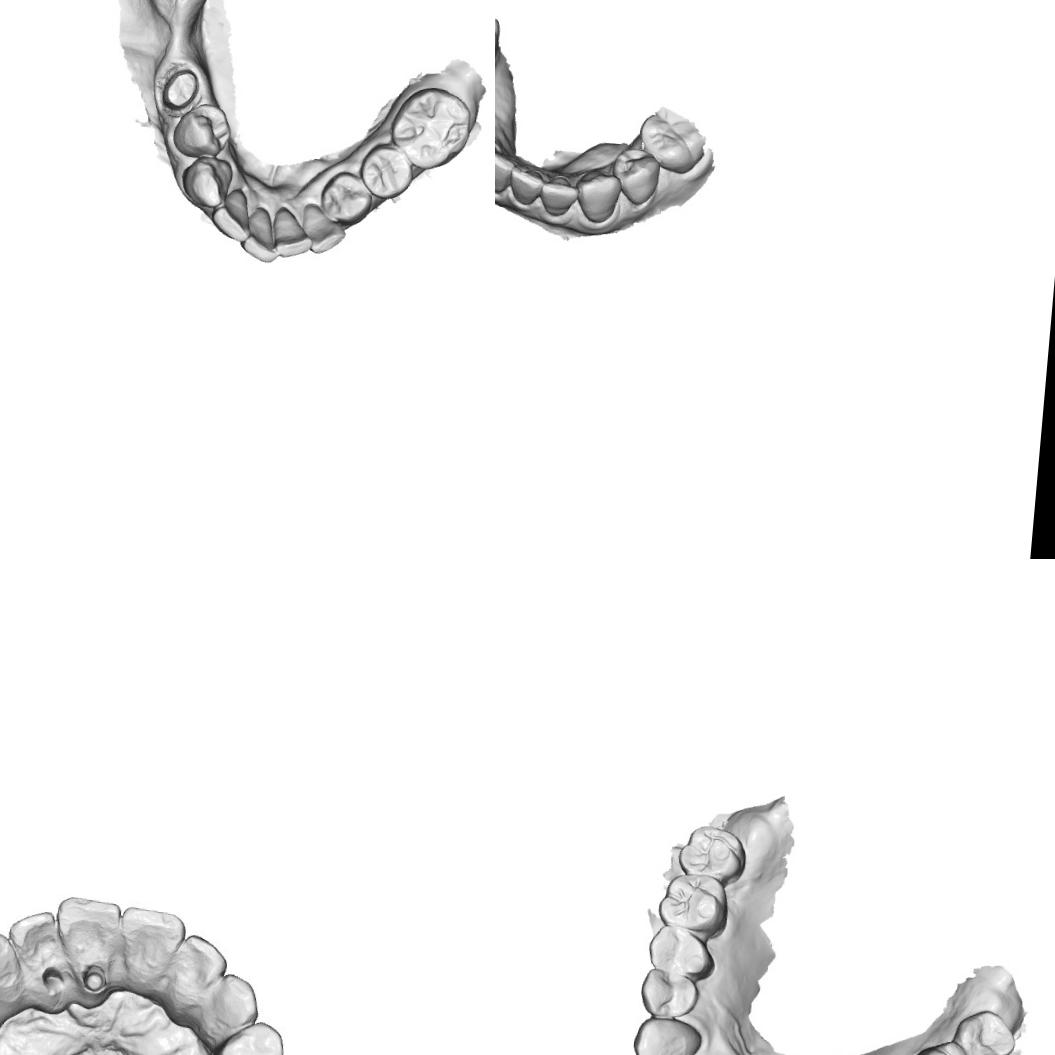canine: (195, 972, 263, 1038), (178, 152, 234, 210), (628, 1013, 703, 1055), (572, 167, 624, 224), (0, 928, 28, 1017)
crown: (156, 60, 204, 121)
incisor: (55, 896, 124, 986), (5, 909, 70, 995), (117, 908, 180, 986), (166, 930, 224, 1004), (298, 200, 348, 256), (208, 184, 254, 243), (239, 201, 282, 263), (268, 206, 316, 260), (538, 172, 580, 218), (506, 162, 543, 206), (495, 147, 517, 195)
molar: (386, 81, 473, 173), (654, 870, 732, 941), (636, 104, 706, 175), (676, 822, 748, 888), (948, 1005, 1018, 1055), (904, 1035, 980, 1055)
premolar: (644, 922, 718, 982), (169, 98, 234, 161), (356, 139, 415, 202), (316, 168, 374, 227), (638, 966, 700, 1020), (609, 146, 662, 206), (211, 1019, 290, 1055)
